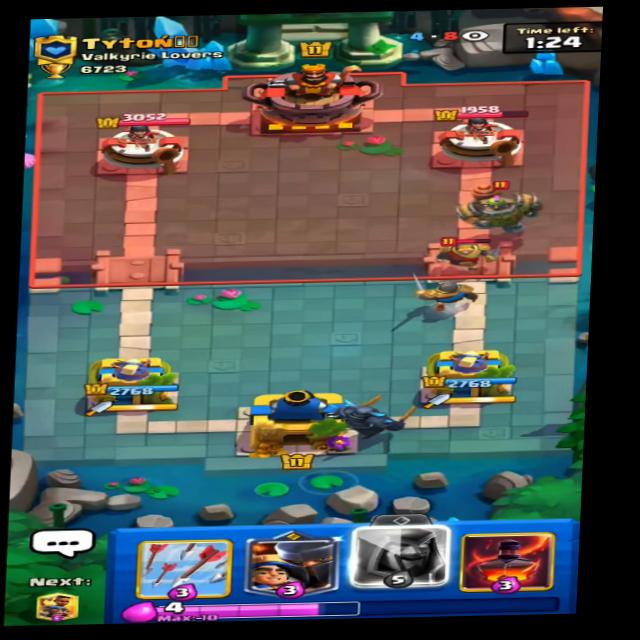goblin-machine: (457, 177, 550, 240)
knight: (430, 229, 514, 274)
